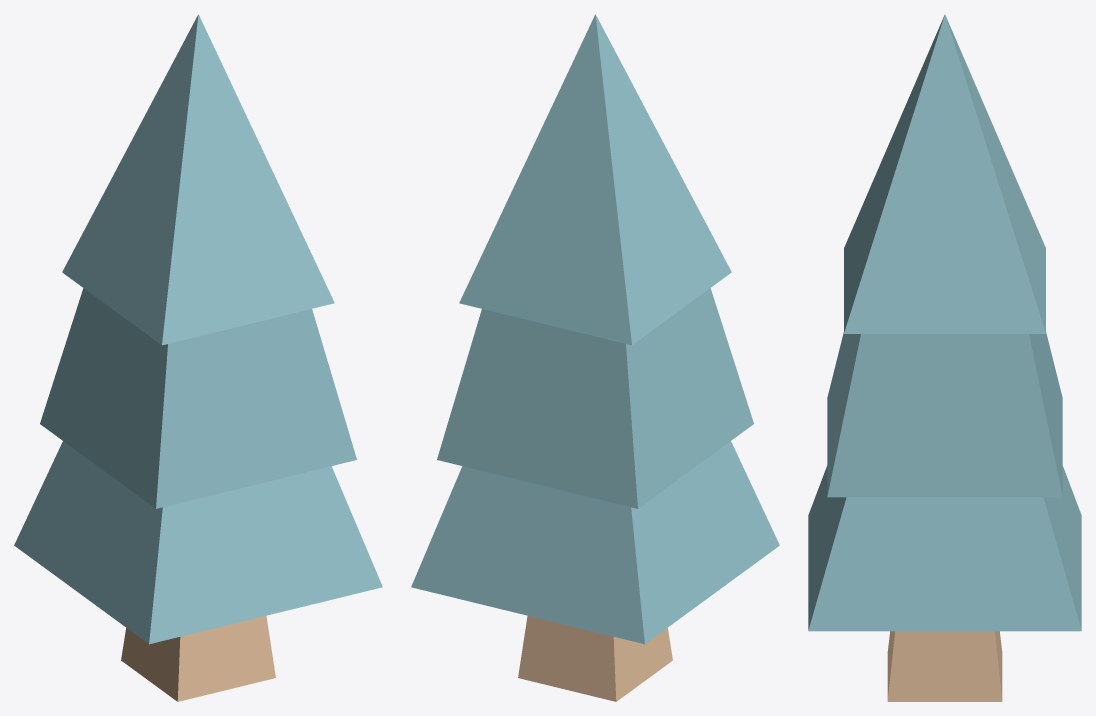
File: tree_pineSmall_square1.glb
3 views of the same model, side by side, from view 1: azimuth 30°, elevation 25°; view 2: azimuth 150°, elevation 25°; view 3: azimuth 270°, elevation 25° (orthographic).
Visible parts, largest first — view 1: tree_pineSmall_square1; view 2: tree_pineSmall_square1; view 3: tree_pineSmall_square1.
Part boxes in pixels (x1,y1,x2,y2): tree_pineSmall_square1: [14, 14, 382, 701]; tree_pineSmall_square1: [411, 14, 779, 701]; tree_pineSmall_square1: [808, 14, 1081, 701].
Bounding box in the file's own units: 0.3569 × 0.9556 × 0.3569.
